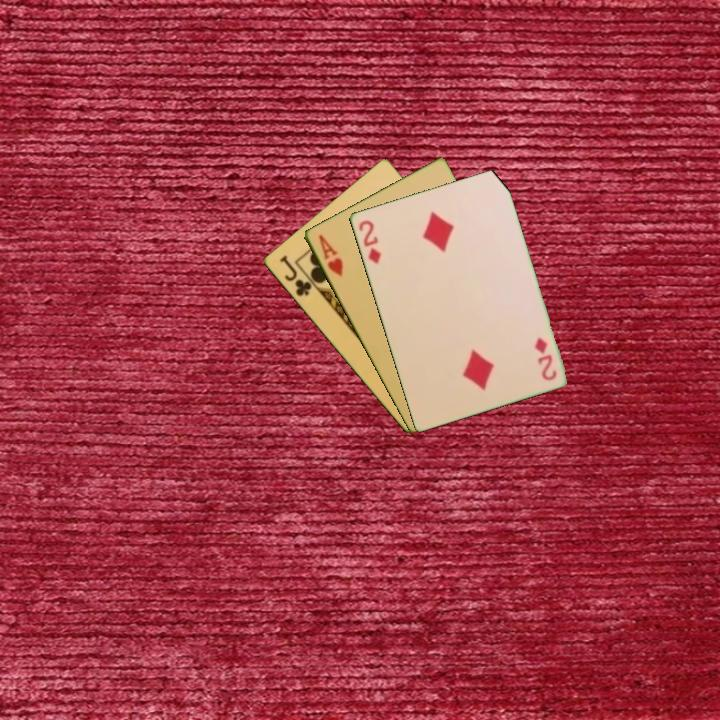2d: (355, 216, 383, 267), (531, 333, 559, 383)
Ah: (315, 231, 346, 279)
Jc: (275, 252, 315, 299)
